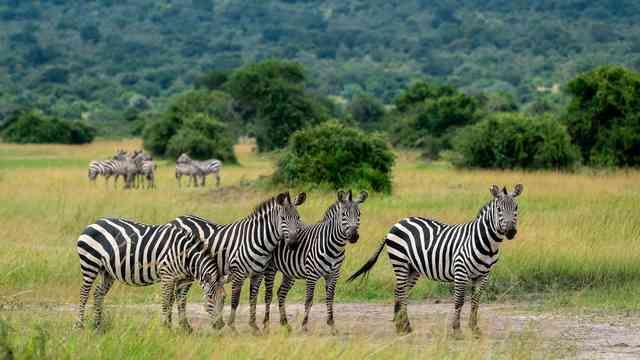zebra: (352, 180, 528, 355), (165, 187, 310, 338), (73, 213, 238, 345), (242, 185, 370, 342)
